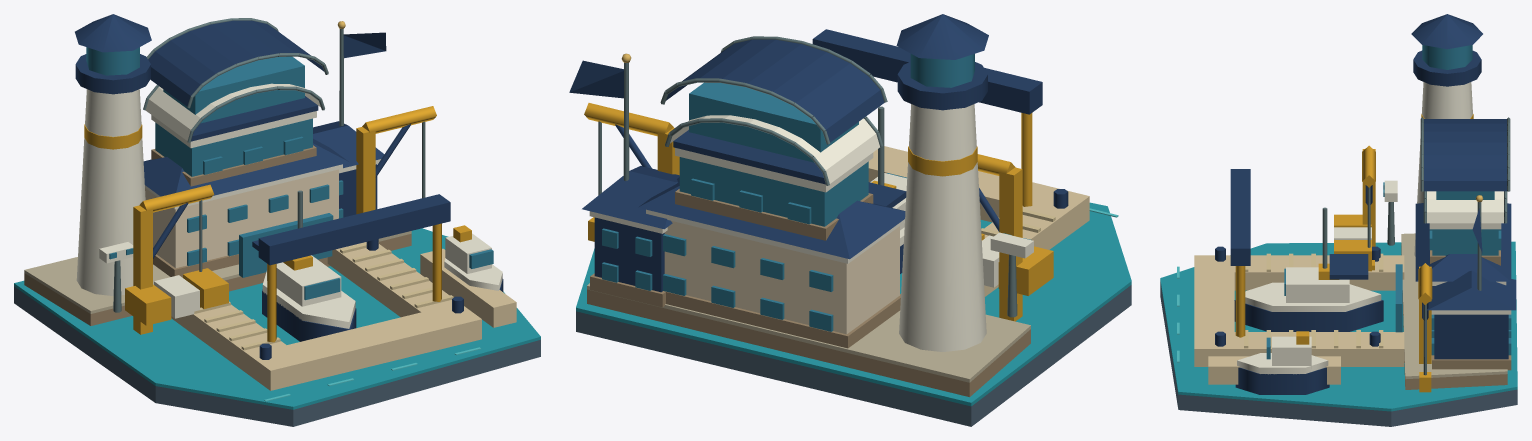
The model's file is port-lv5.glb.
The picture shows the model from 3 angles, left to right: view 1: azimuth 30°, elevation 25°; view 2: azimuth 150°, elevation 25°; view 3: azimuth 270°, elevation 25°; orthographic projection. The views are drawn at different scales.
Visible parts, largest first — view 1: foundation_water, pier_stone, lighthouse_white, foundation_slate, warehouse_cream, upper_canopy_naval, port_gate_naval, cranes_ochre, vessel_white, upper_lounge_glass, terminal_glass, warehouse_roof_naval (+31 smaller); view 2: lighthouse_white, foundation_water, warehouse_cream, foundation_slate, upper_canopy_naval, quay_stoneDark, quay_paving, upper_lounge_glass, warehouse_roof_naval, terminal_glass, cranes_ochre, pier_stone (+28 smaller); view 3: foundation_water, pier_stone, vessel_white, upper_canopy_naval, vessel_naval, foundation_slate, warehouse_annex_naval, warehouse_roof_naval, quay_paving, warehouse_annex_roof_naval, cranes_ochre, port_gate_naval (+22 smaller).
Boxes of the visible parts, x1,y1,x2,y2 form: foundation_water: [14, 228, 540, 409]; pier_stone: [171, 242, 481, 390]; lighthouse_white: [76, 89, 145, 295]; foundation_slate: [14, 286, 540, 426]; warehouse_cream: [145, 169, 338, 268]; upper_canopy_naval: [148, 20, 324, 106]; port_gate_naval: [258, 194, 450, 265]; cranes_ochre: [133, 106, 436, 334]; vessel_white: [262, 233, 502, 328]; upper_lounge_glass: [163, 56, 304, 123]; terminal_glass: [155, 118, 312, 176]; warehouse_roof_naval: [143, 138, 349, 196]; lighthouse_white: [899, 104, 986, 351]; foundation_water: [576, 202, 1131, 406]; warehouse_cream: [664, 220, 899, 334]; foundation_slate: [576, 285, 1131, 426]; upper_canopy_naval: [666, 39, 884, 142]; quay_stoneDark: [587, 289, 1030, 397]; quay_paving: [587, 283, 1030, 382]; upper_lounge_glass: [689, 82, 858, 162]; warehouse_roof_naval: [638, 177, 905, 259]; terminal_glass: [679, 157, 868, 226]; cranes_ochre: [584, 103, 1022, 321]; pier_stone: [868, 146, 1089, 296]; foundation_water: [1160, 241, 1517, 411]; pier_stone: [1194, 255, 1404, 366]; vessel_white: [1237, 267, 1381, 374]; upper_canopy_naval: [1424, 119, 1506, 191]; vessel_naval: [1234, 254, 1383, 394]; foundation_slate: [1160, 282, 1517, 426]; warehouse_annex_naval: [1434, 314, 1508, 359]; warehouse_roof_naval: [1415, 203, 1511, 281]; quay_paving: [1401, 233, 1507, 379]; warehouse_annex_roof_naval: [1427, 270, 1516, 310]; cranes_ochre: [1362, 145, 1432, 363]; port_gate_naval: [1230, 169, 1250, 265].
Bounding box in the file's own units: 1 × 0.7614 × 0.9036.
